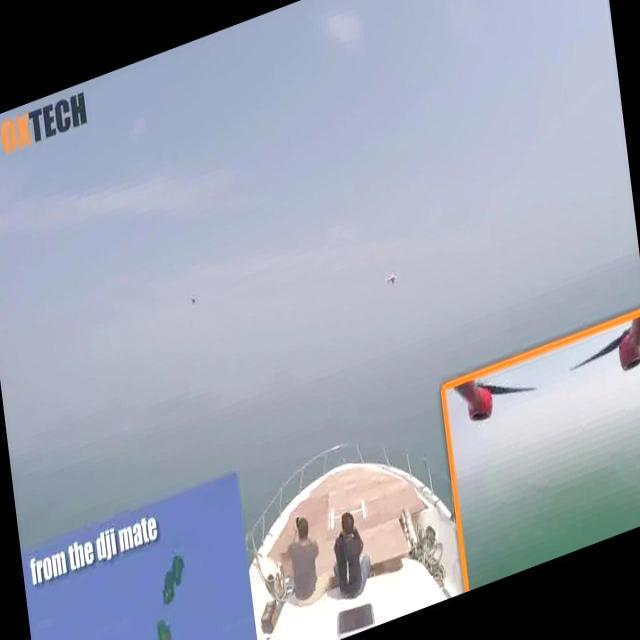drone: (378, 262, 402, 292)
